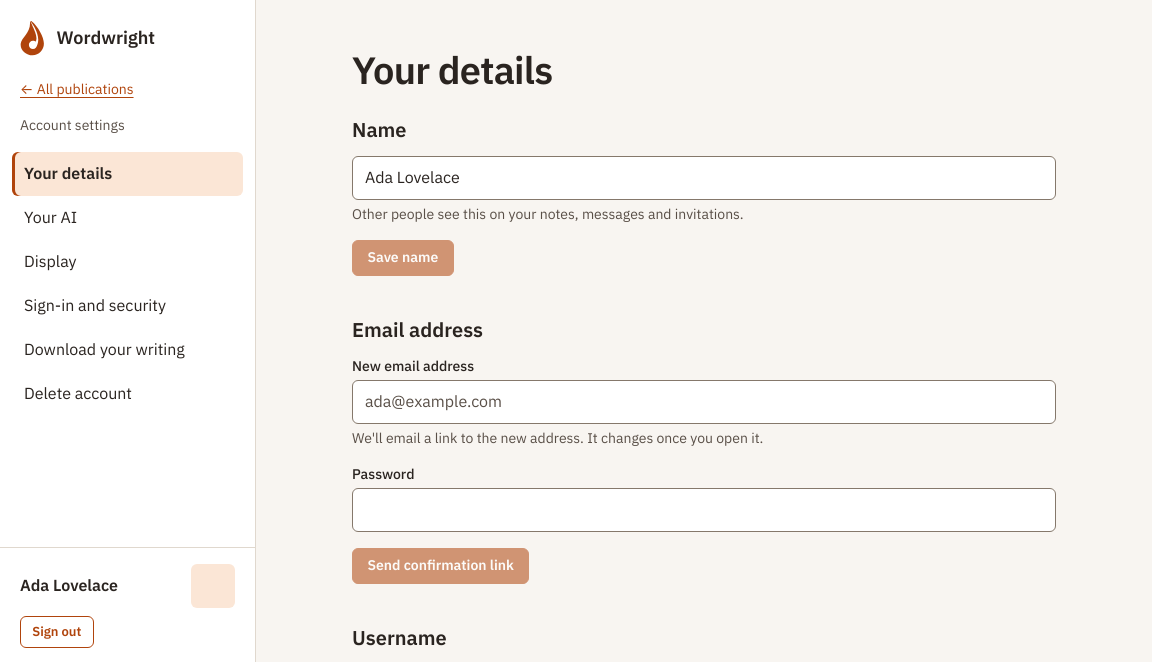
Test: your name on the account page › shows the server's explanation and keeps what was typed
Step 1. Replace the text in the 1st field named "Name" with "A different name" → (704, 178), box [352,156,1056,200]
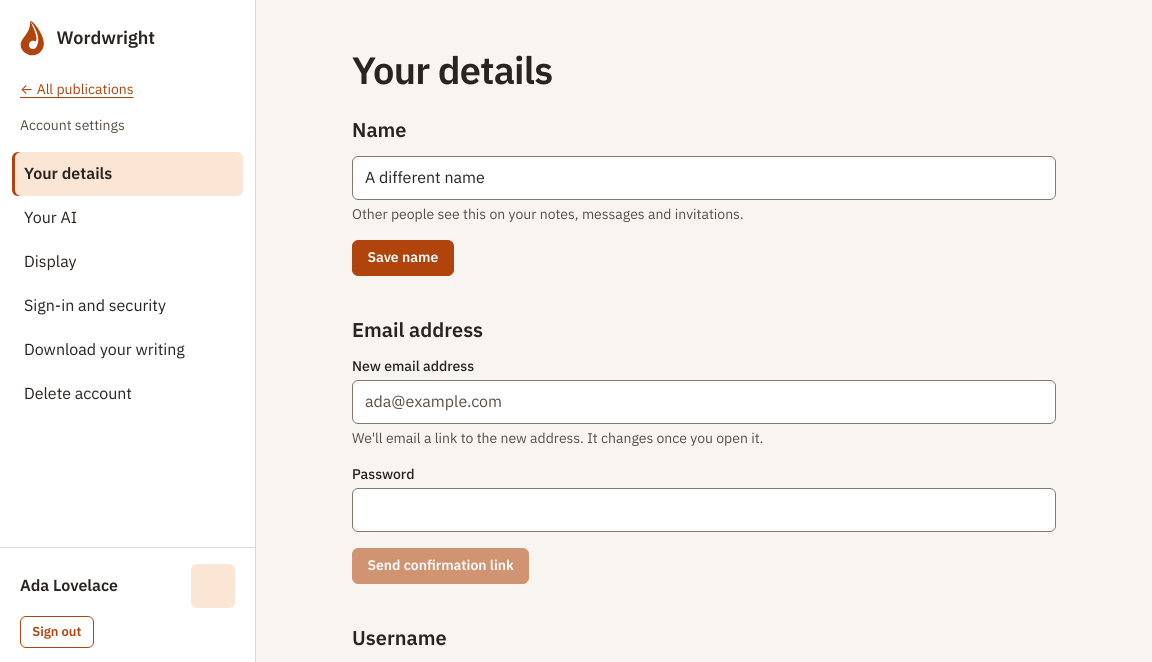
Step 2. Click the button "Save name" → (403, 258), box [352,240,454,276]
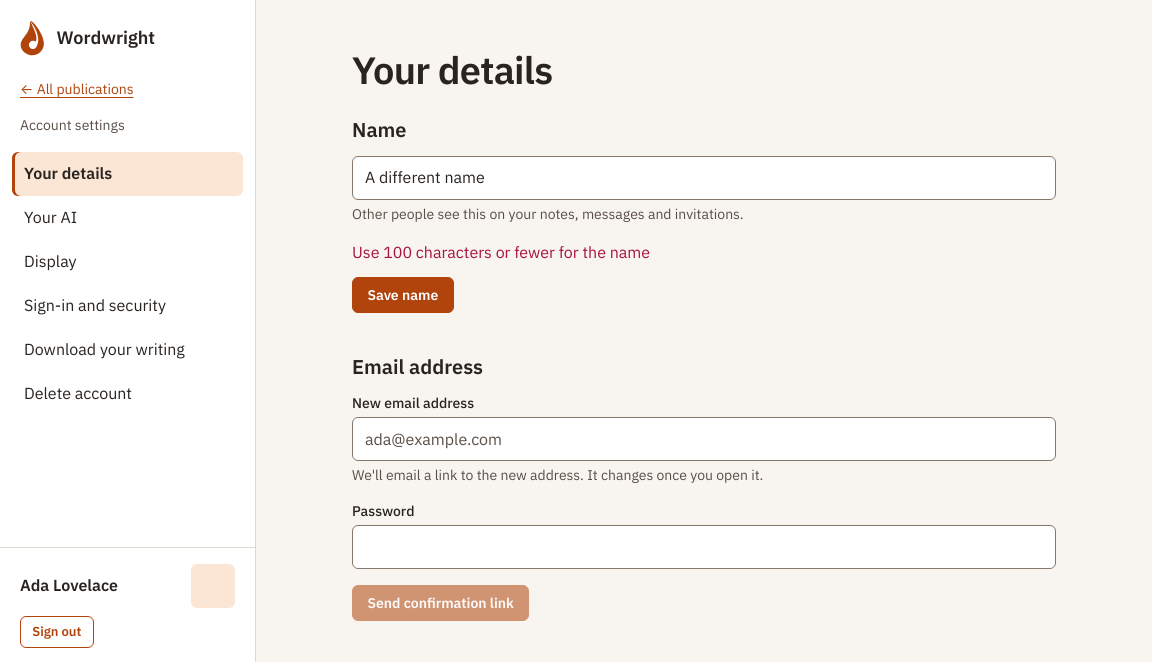
Expected: the message shows "100 characters or fewer", [352,242,650,262]
